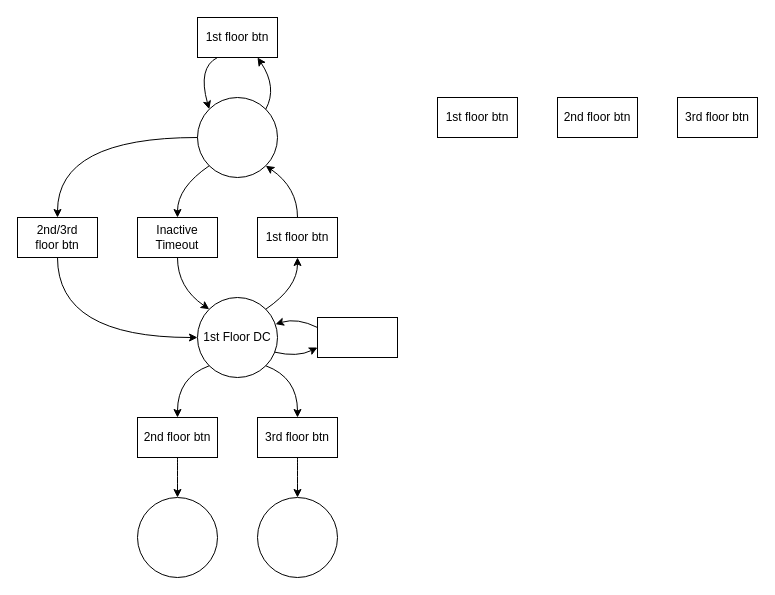
Image size: 775x595. Some labels were removed from this diagram. The shapes that lost their labels are listed below. From the top down, each one's box as (x1, y1, x2, y2) in pixels, then its label:
(196, 96, 278, 178): 1st Floor DO
(316, 316, 398, 358): no button queued
(136, 496, 218, 578): 1st -> 2nd
(256, 496, 338, 578): 1st -> 3rd
